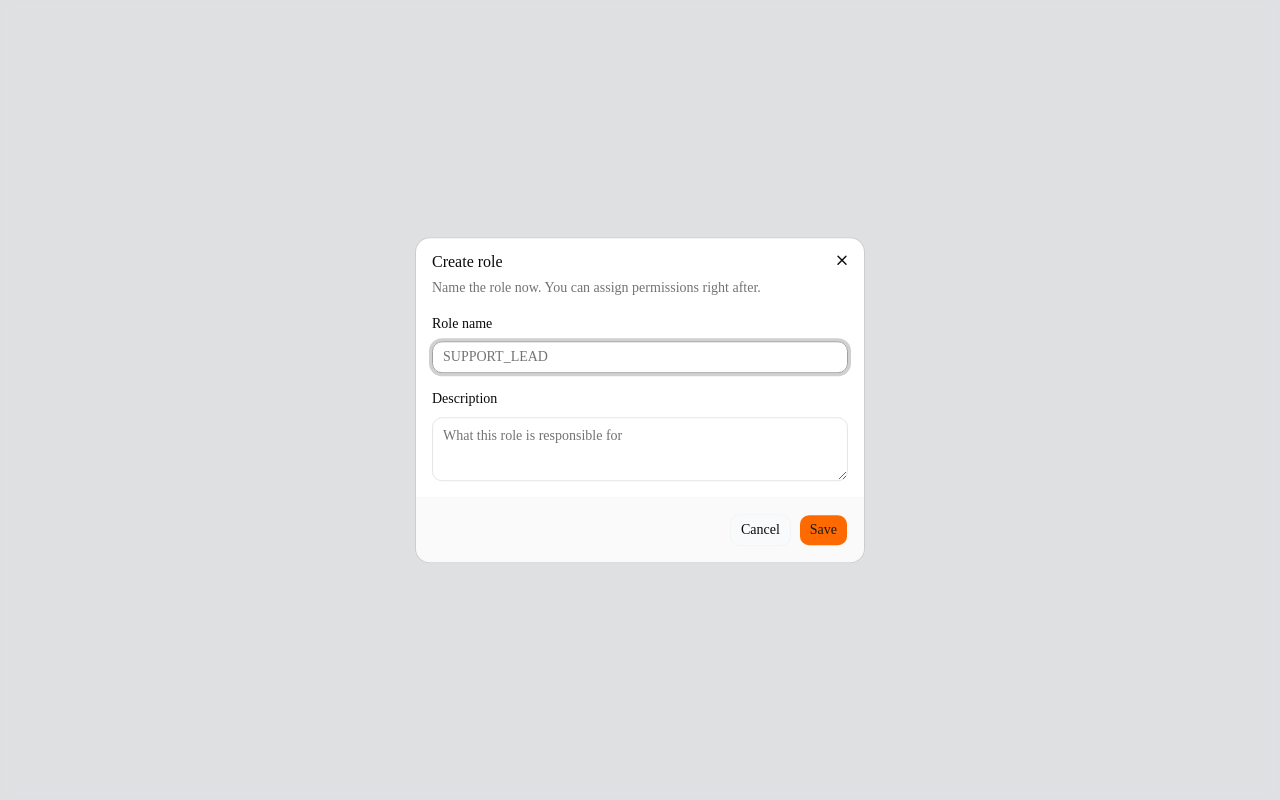
Test: CreateRoleDialog › does not submit an invalid form
This screenshot has width=1280, height=800.
Type "bad name" into the field labelled "Role name" at (640, 358), box 432,342 -> 848,374
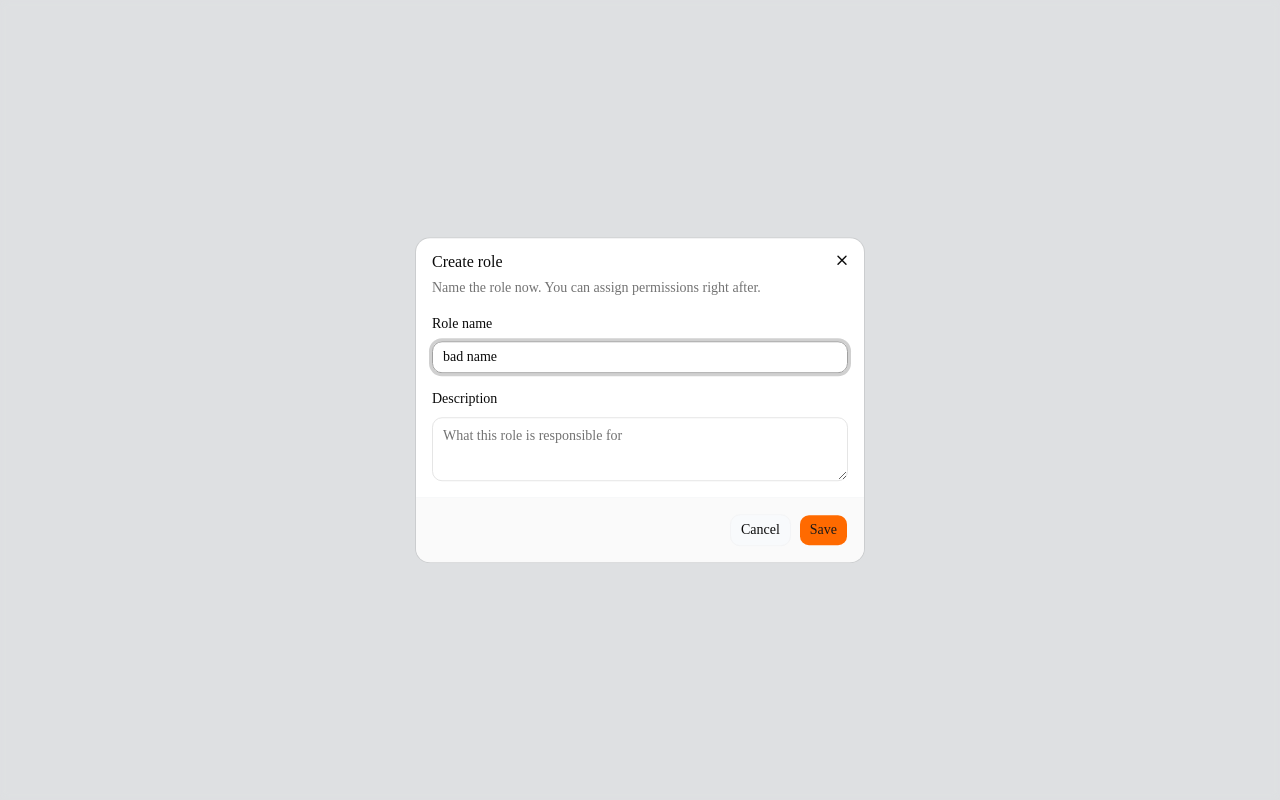
Click the button "Save" at (823, 530), box 799,514 -> 848,546
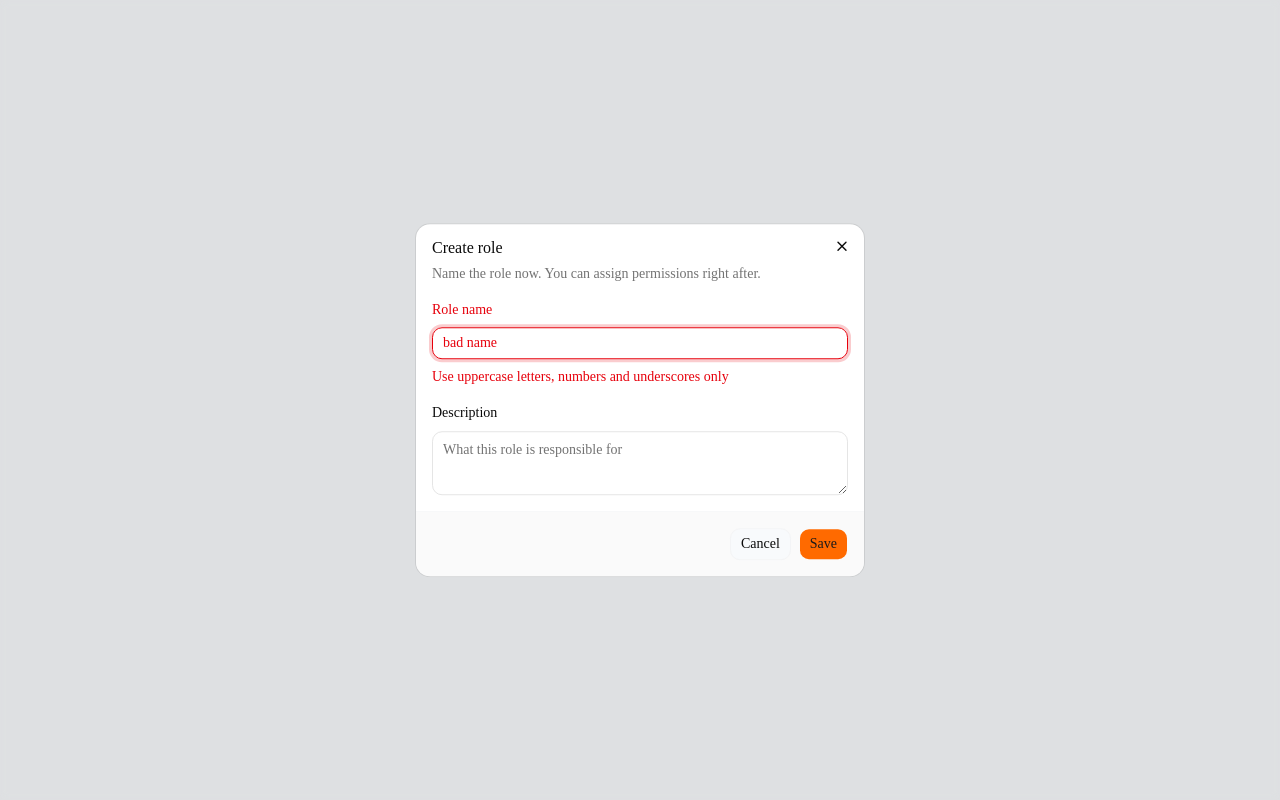
Now the text "Use uppercase letters, numbers and underscores only" is shown, box 432,370 -> 729,384
